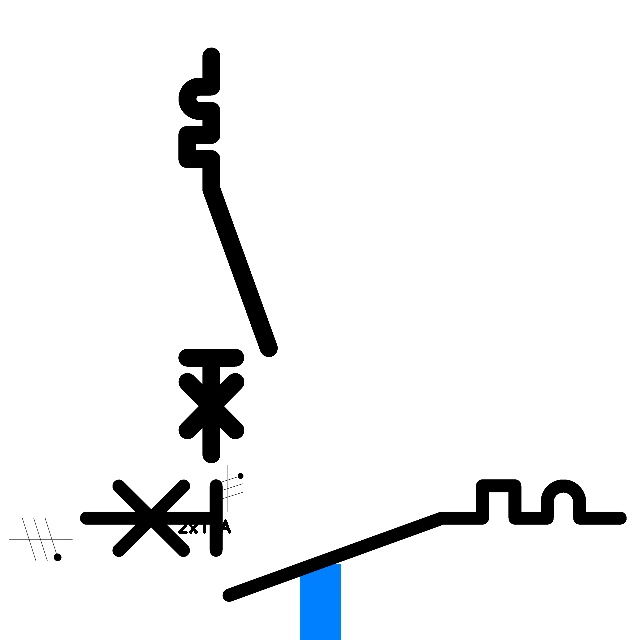interruptor_termomagnetico: (72, 472, 633, 609), (177, 46, 279, 464)
